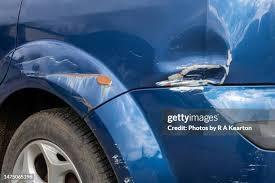dent: (15, 18, 252, 119)
scratch: (7, 46, 136, 182), (148, 1, 274, 98)
